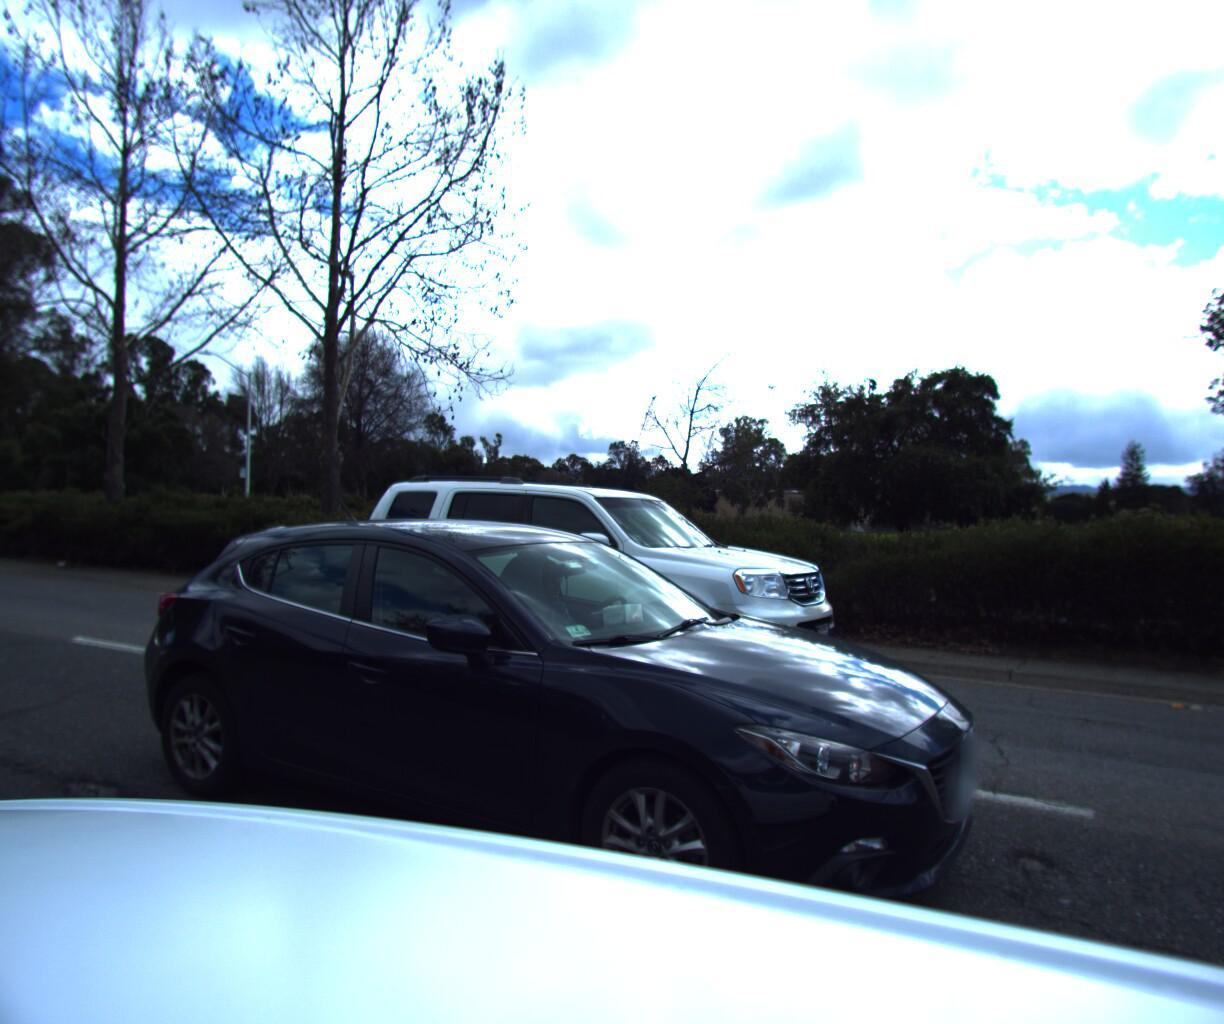car: (86, 496, 1008, 1024), (317, 462, 875, 726)
